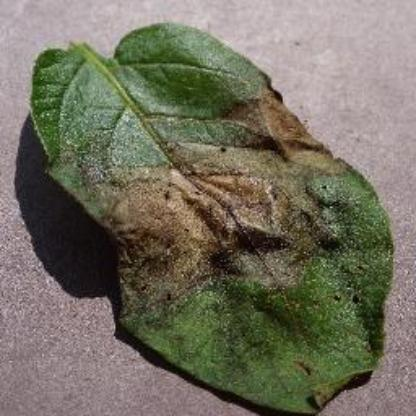Late-Blight: (17, 11, 410, 415)
